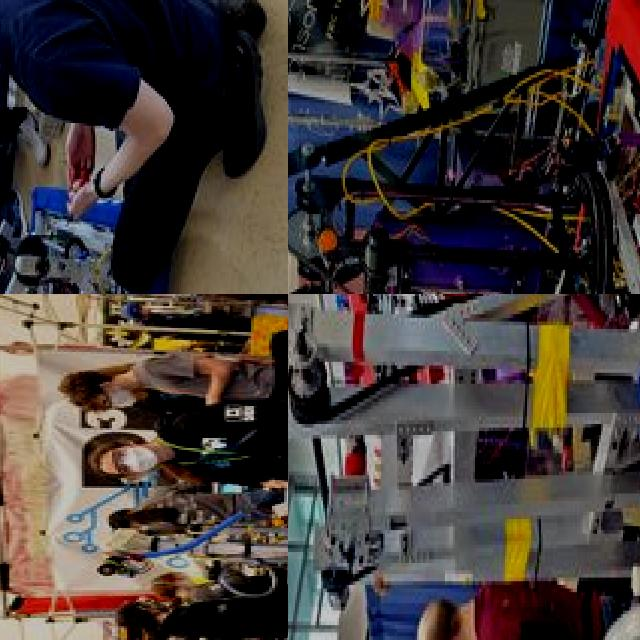FRC-Robots: (288, 294, 640, 640), (288, 0, 640, 294), (0, 125, 194, 294), (173, 456, 288, 640)
